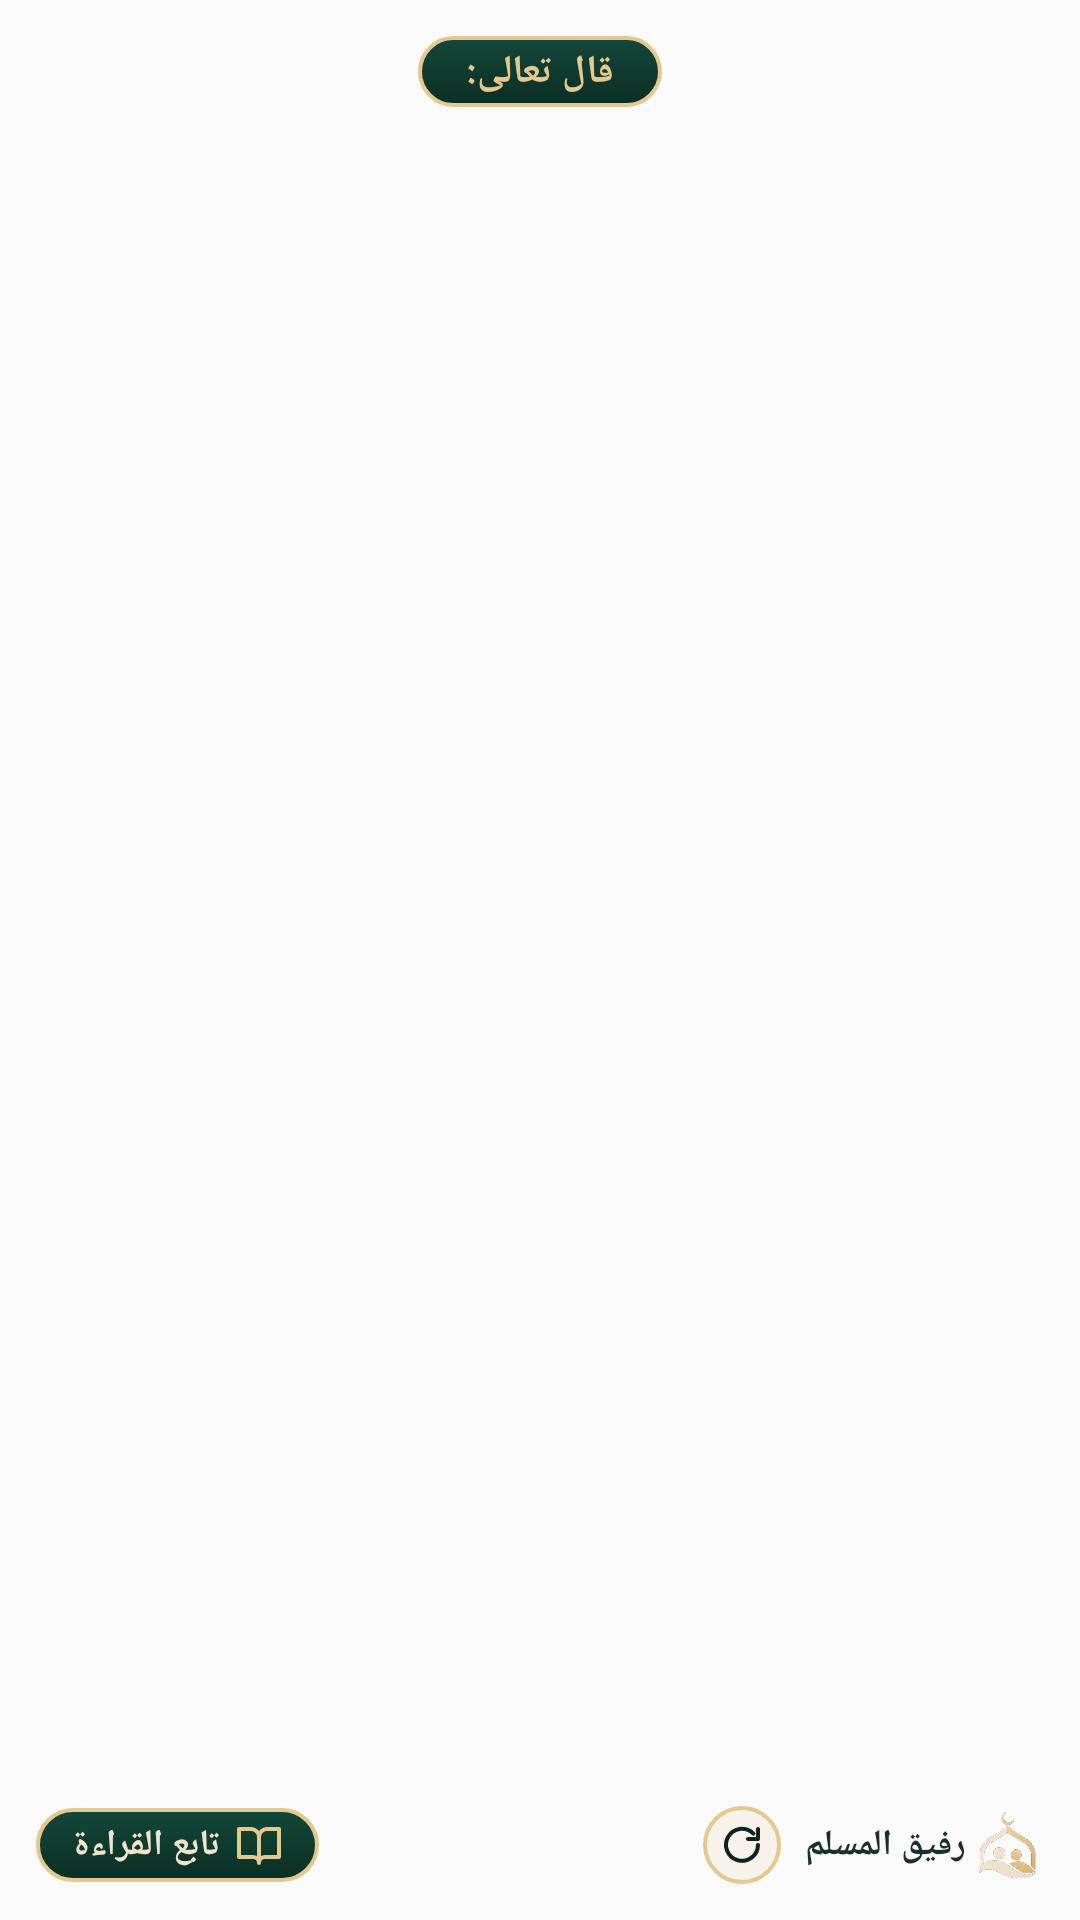

Named icons in this screenshot (1080 x 1920) and their bounding boxes, Rect(x1, y1, x2, y2):
book: Rect(237, 1827, 281, 1865)
آية أخرى: Rect(703, 1806, 781, 1884)
